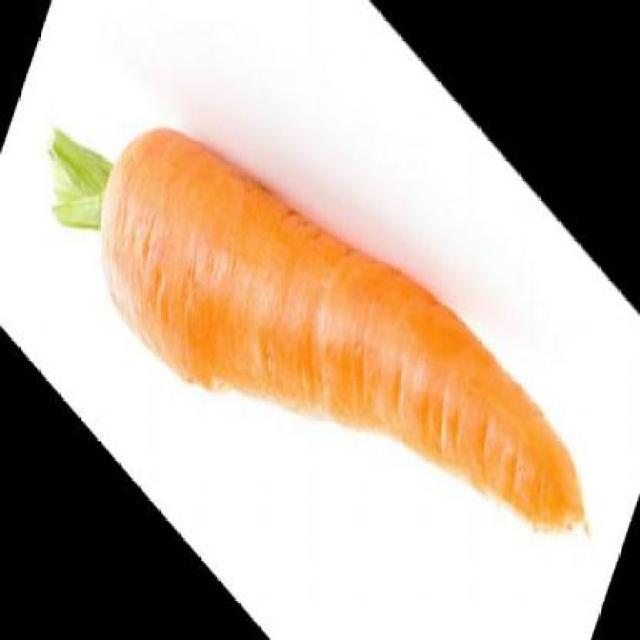carrot: (76, 0, 605, 638)
